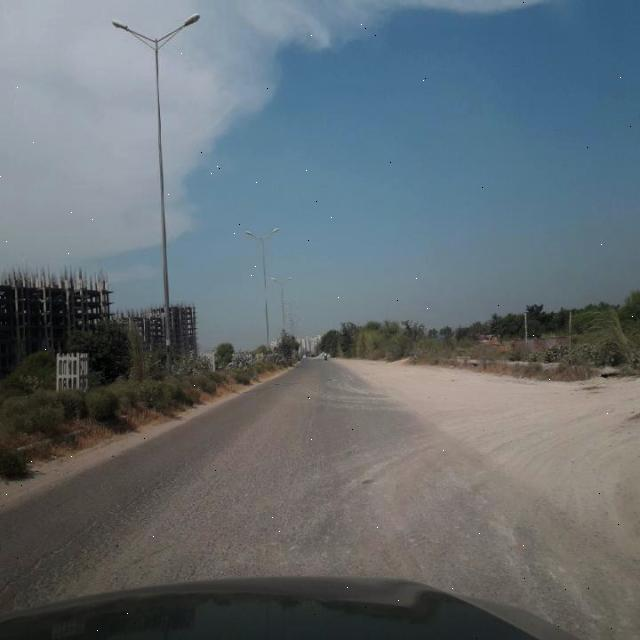D00: (4, 473, 176, 590), (294, 396, 326, 468)
D20: (1, 434, 296, 599)
